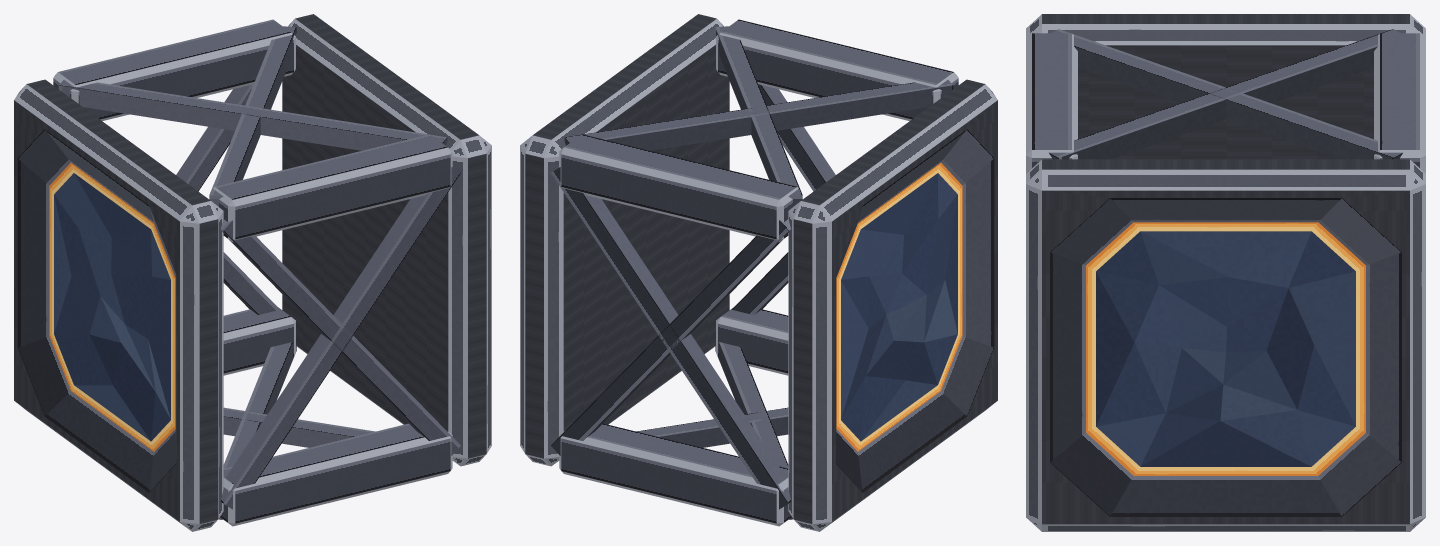
The model's file is marlit_girder.glb.
The picture shows the model from 3 angles, left to right: view 1: azimuth 30°, elevation 25°; view 2: azimuth 150°, elevation 25°; view 3: azimuth 270°, elevation 25°; orthographic projection. The views are drawn at different scales.
Visible parts, largest first — view 1: marlit_girder_body; view 2: marlit_girder_body; view 3: marlit_girder_body.
Part boxes in pixels (x1,y1,x2,y2): marlit_girder_body: (14,14,491,531); marlit_girder_body: (520,14,997,531); marlit_girder_body: (1026,14,1425,531).
Size of the model in its own units: 2 by 2 by 2.
Materials: 1 (1 with a texture image).
